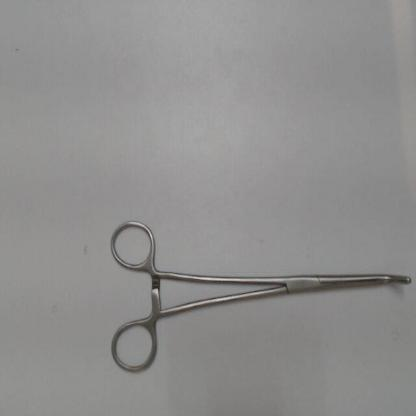Lahey Forceps: (106, 212, 413, 378)
